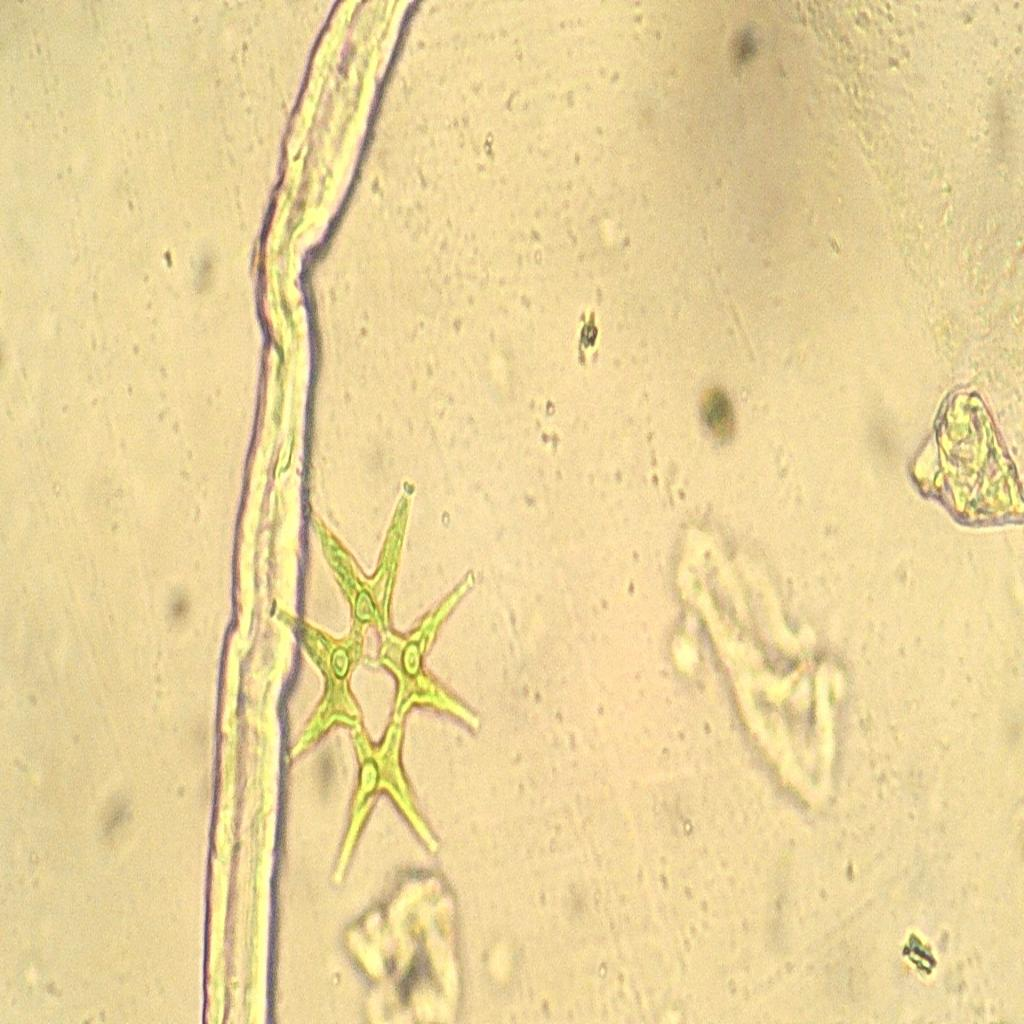Pediastrum_CF: (262, 478, 486, 895)
